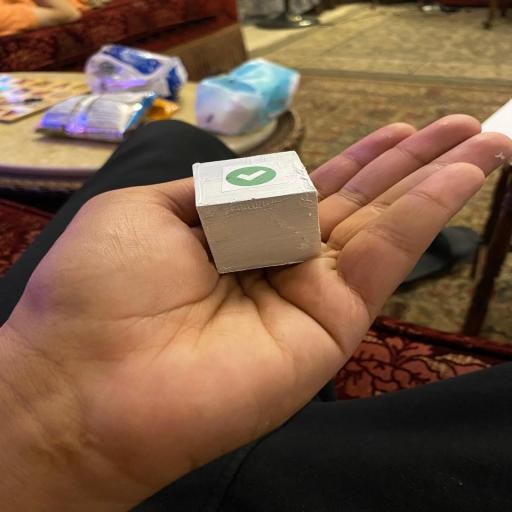Confirm: (189, 150, 327, 274)
